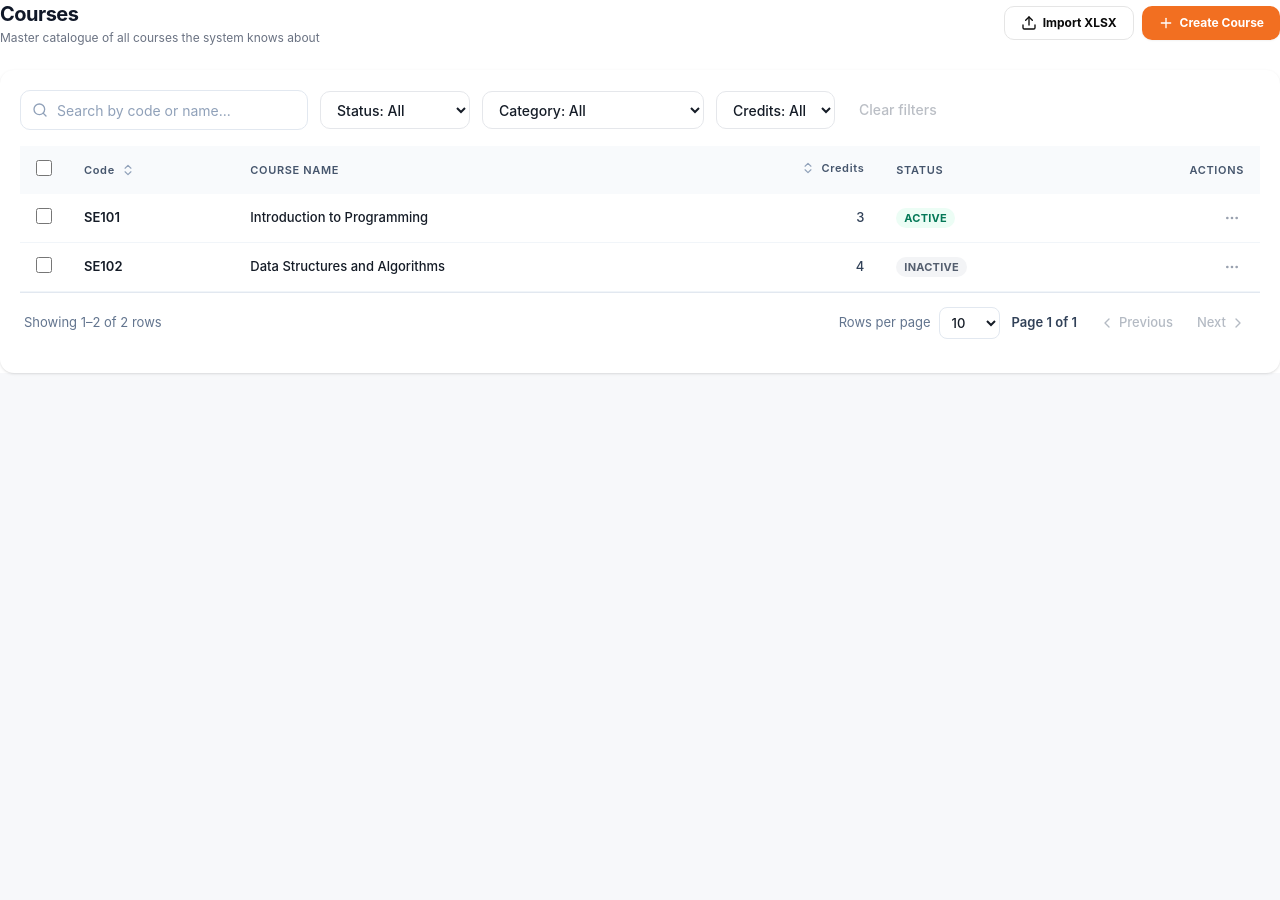
Test: Courses › opens the delete confirmation from the row action menu
Check: the text "SE101" is shown, box [84, 209, 120, 225]
What coordinates should you click on to do the following:
click the button named "Actions for SE101"
I would click on:
 (1232, 218)
Its box is [1220, 206, 1244, 230].
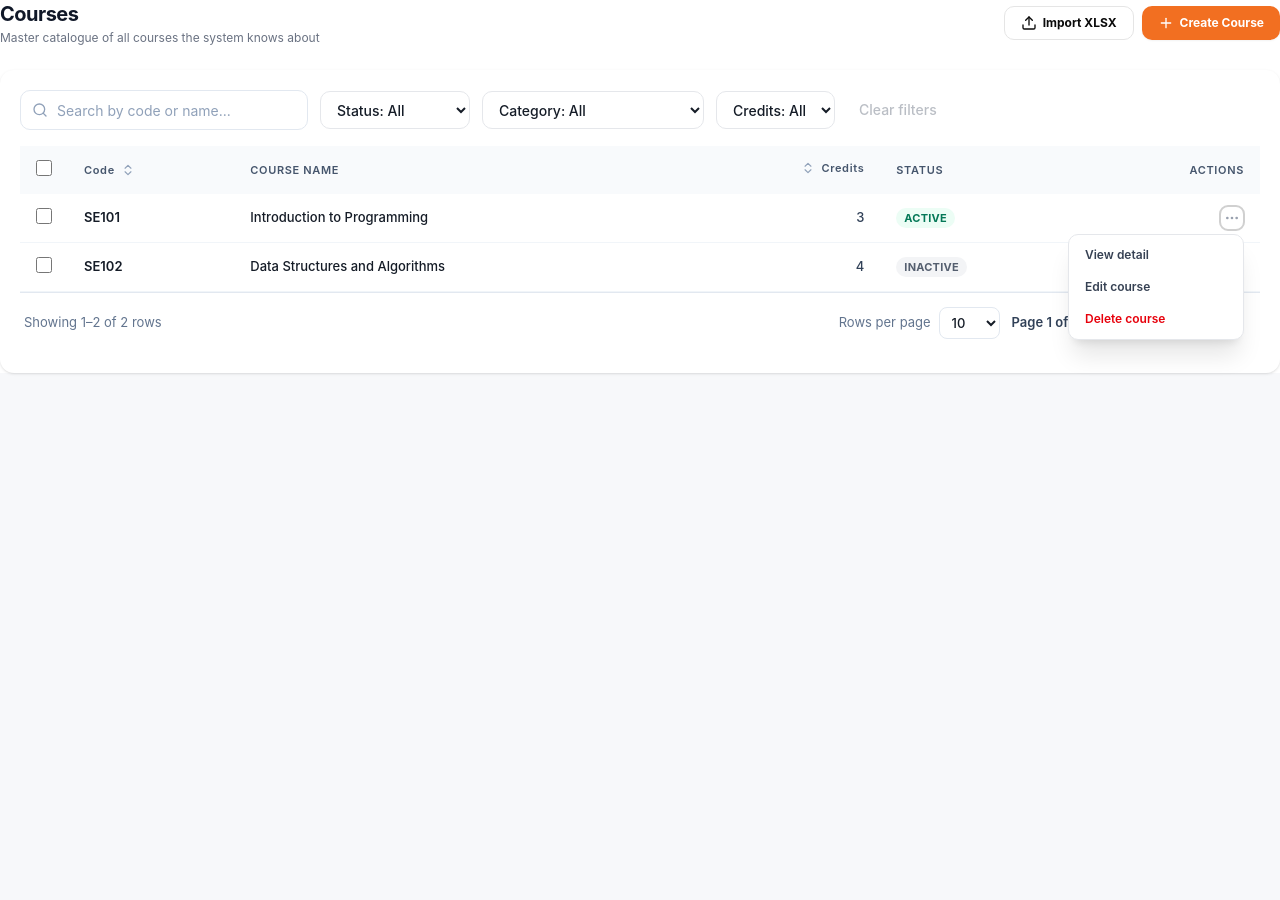
What coordinates should you click on to do the following:
click the menu item "Delete course"
I would click on:
 (1156, 319)
Its box is [1073, 303, 1239, 335].
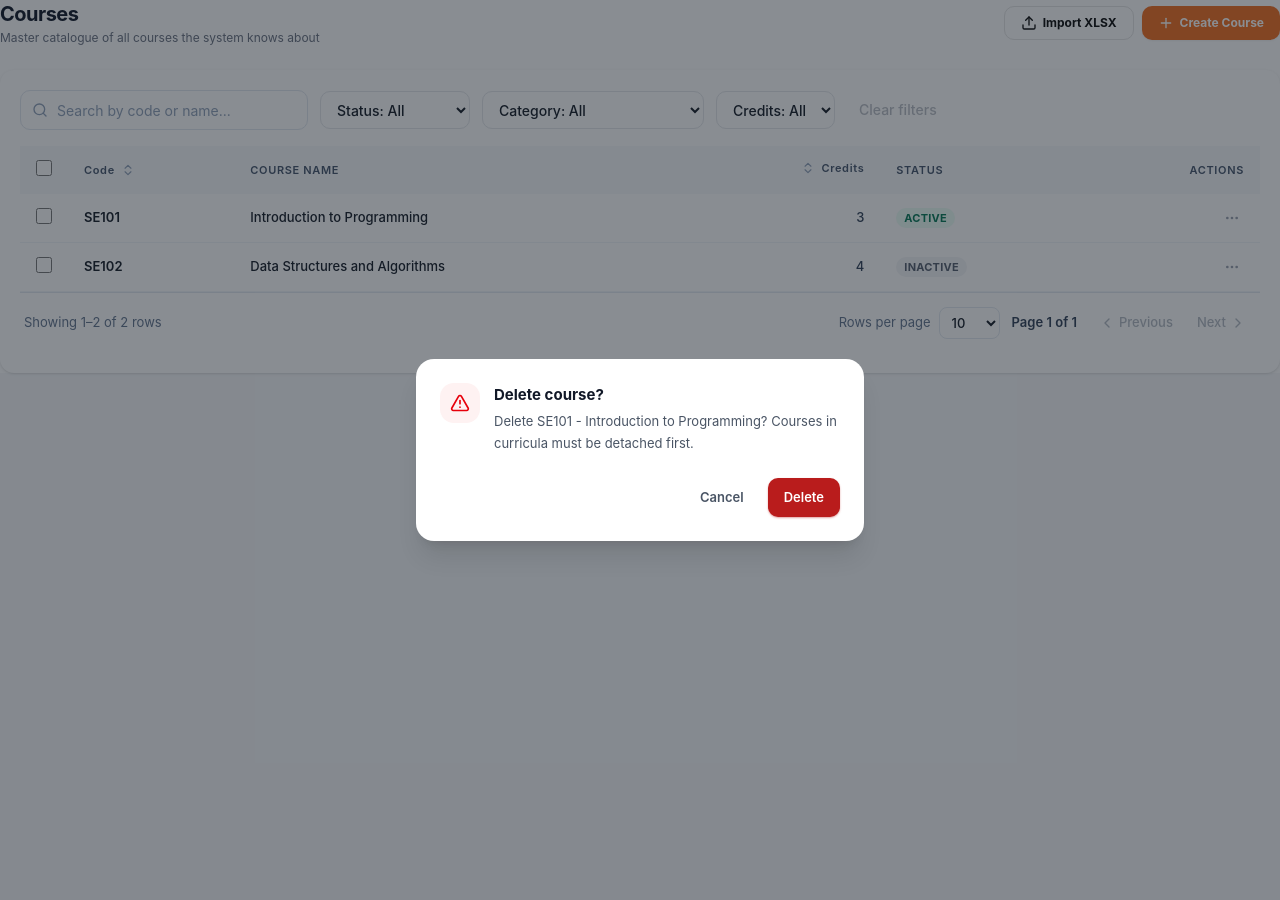
Check: the heading "Delete course?" is shown, box [494, 385, 604, 404]
Check: the text "Delete SE101 - Introduction to Programming" is shown, box [494, 413, 837, 450]
